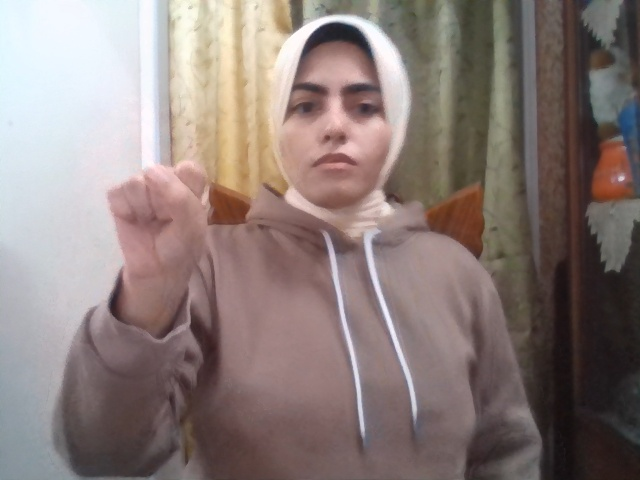S: (107, 159, 208, 281)
